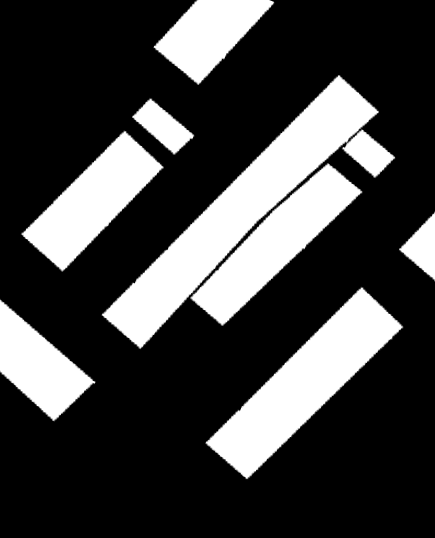parkingspot: (102, 75, 395, 349), (206, 287, 403, 479), (191, 164, 362, 326), (22, 131, 164, 271), (0, 300, 95, 421), (154, 0, 274, 85), (132, 99, 194, 154), (399, 212, 435, 281), (347, 132, 358, 143), (356, 130, 360, 134), (346, 141, 349, 144)
